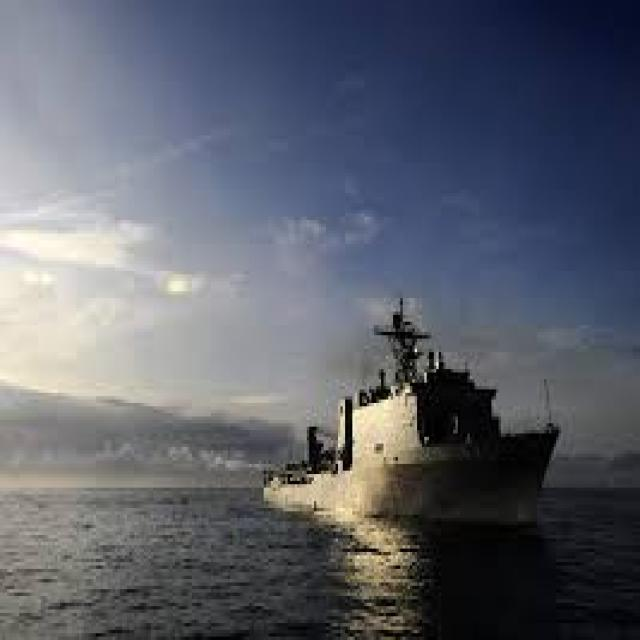navalvessels: (256, 298, 562, 542)
